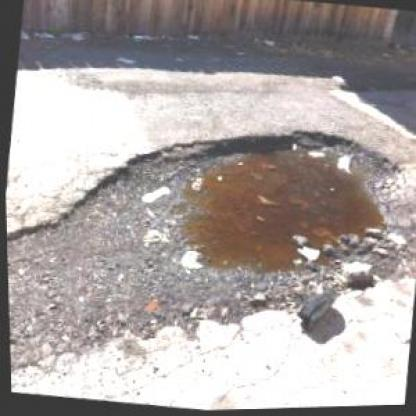pothole: (31, 96, 414, 412)
